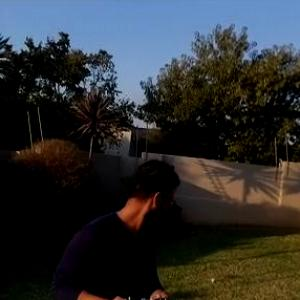follow: (46, 153, 184, 299)
